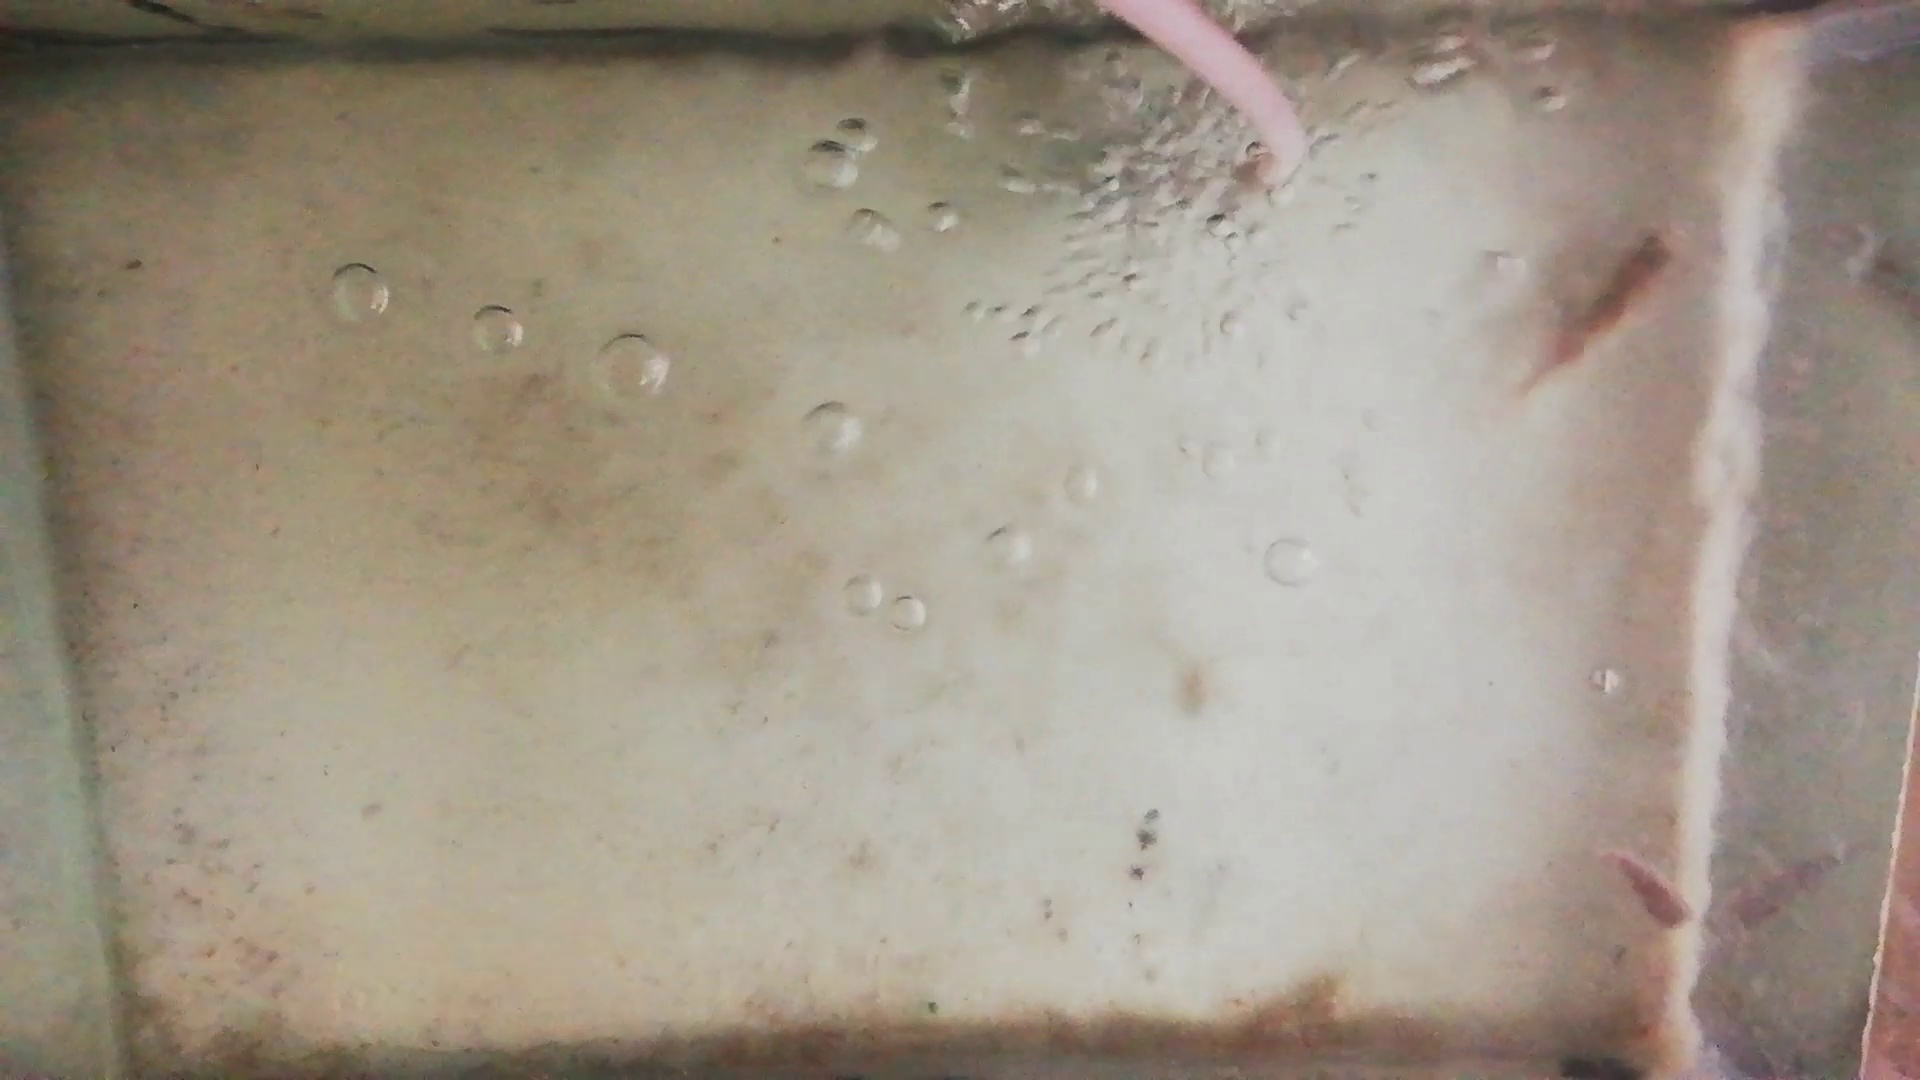fish: (1526, 233, 1683, 382), (1602, 852, 1697, 930)
